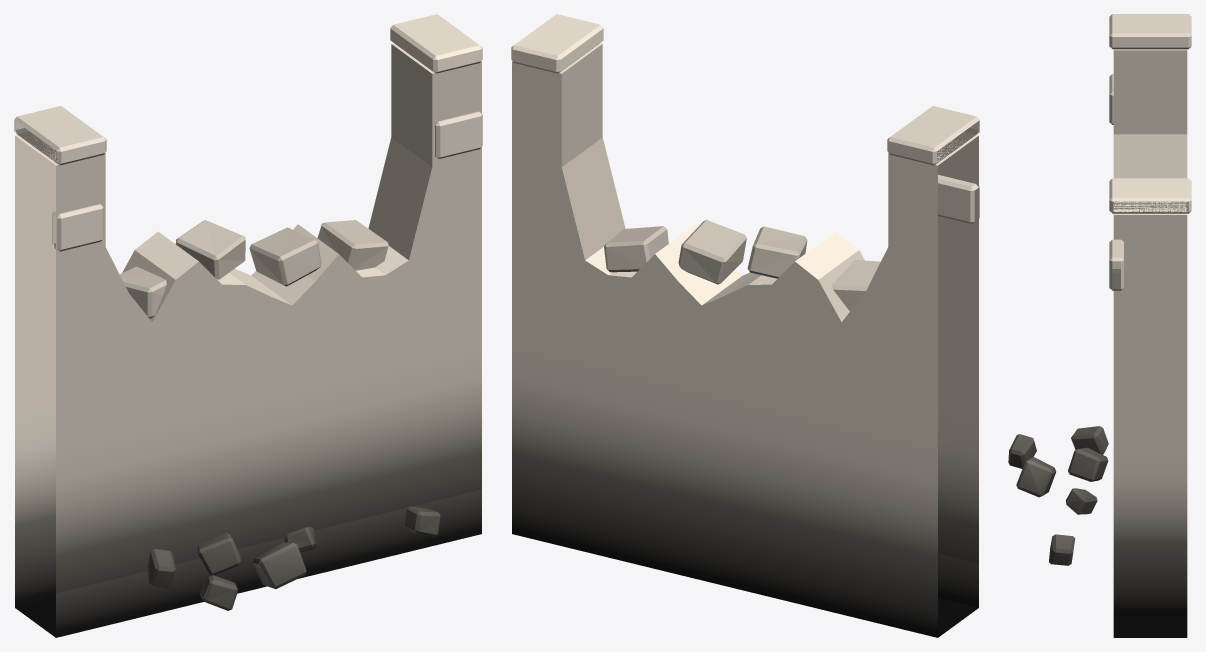
File: SM_VKI_Wall_Ancient_Broken_300_Full.fbx
3 views of the same model, side by side, from view 1: azimuth 30°, elevation 25°; view 2: azimuth 150°, elevation 25°; view 3: azimuth 270°, elevation 25° (orthographic). The views are drawn at different scales.
Parts seen in each view (by area): view 1: SM_VKI_Wall_Ancient_Broken_300_Full.001; view 2: SM_VKI_Wall_Ancient_Broken_300_Full.001; view 3: SM_VKI_Wall_Ancient_Broken_300_Full.001.
Part boxes in pixels (left/top/right/bottom): SM_VKI_Wall_Ancient_Broken_300_Full.001: left=14, top=14, right=482, bottom=637; SM_VKI_Wall_Ancient_Broken_300_Full.001: left=511, top=14, right=979, bottom=637; SM_VKI_Wall_Ancient_Broken_300_Full.001: left=1008, top=14, right=1191, bottom=637.
Bounding box in the file's own units: 3 × 3.3 × 1.25.
